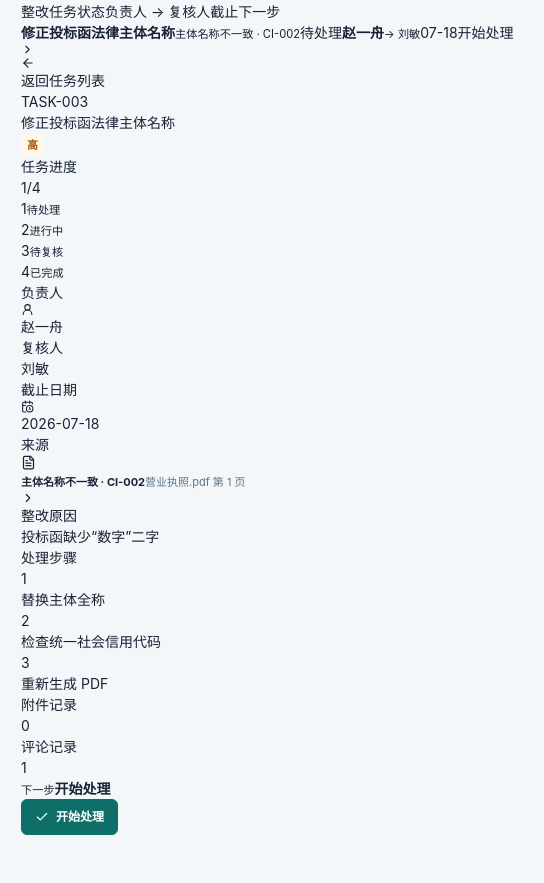
Test: Phase 3-5 workbenches › advances a remediation task through the existing ordered actions
(page scrolled)
Step 1. Click the button "开始处理" → (70,817), box [21,799,118,835]
(page scrolled)
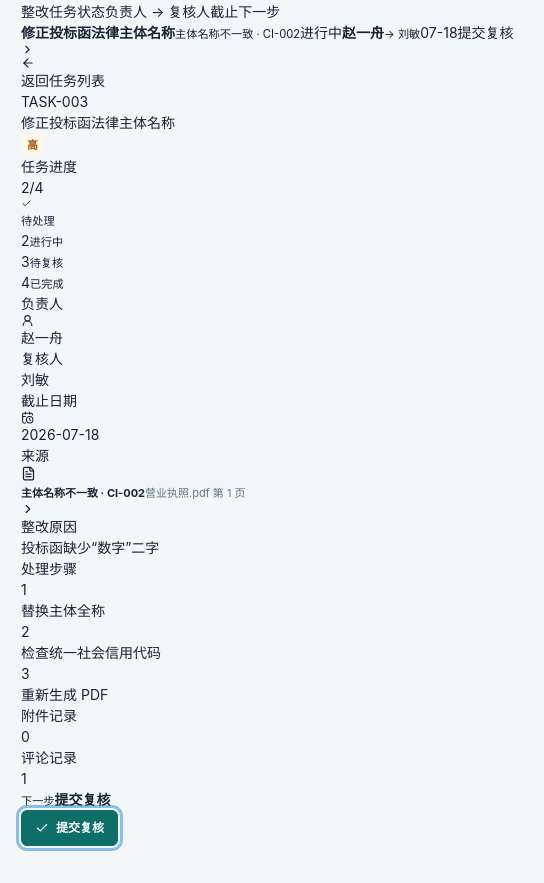
Step 2. Click the button "提交复核" → (70,828), box [21,810,118,846]
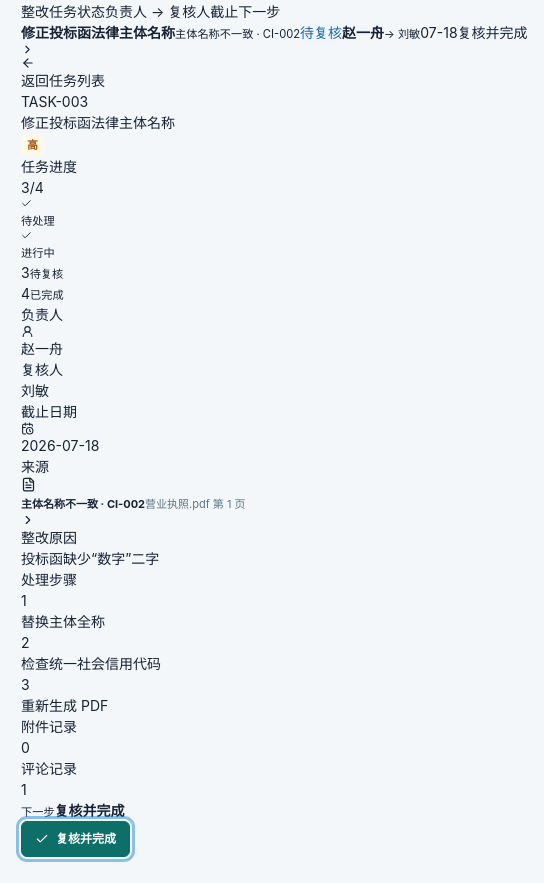
Step 3. Click the button "复核并完成" → (76,839), box [21,821,130,857]
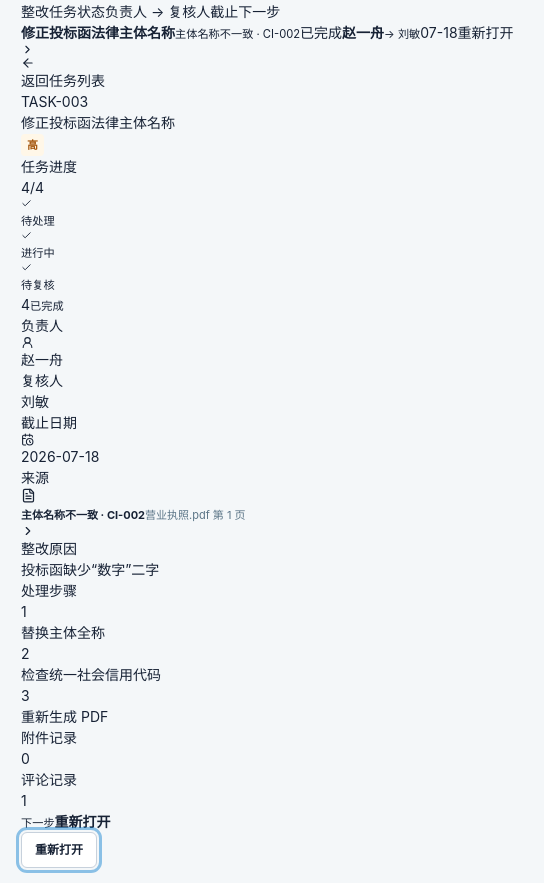
Check: the button "重新打开" is shown, box [21,832,97,868]
